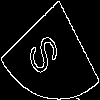S: (25, 25, 67, 79)
